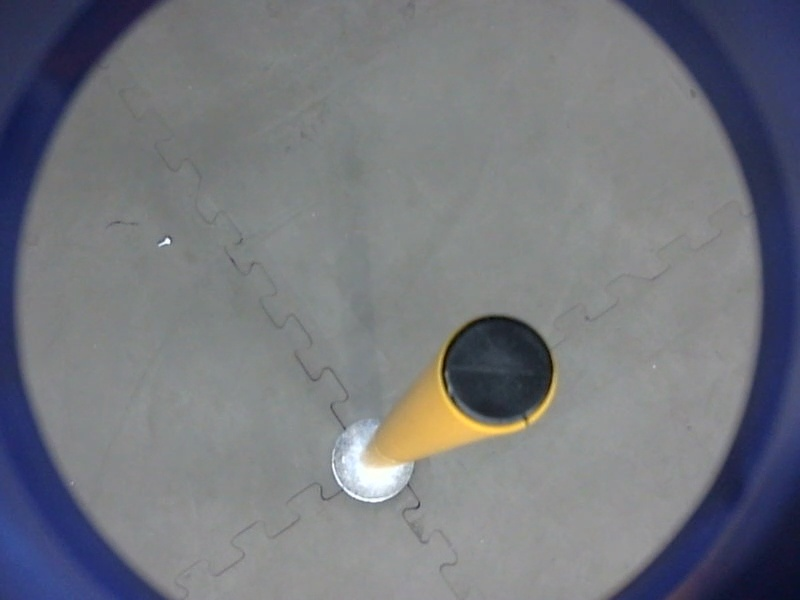tip: (433, 309, 564, 437)
